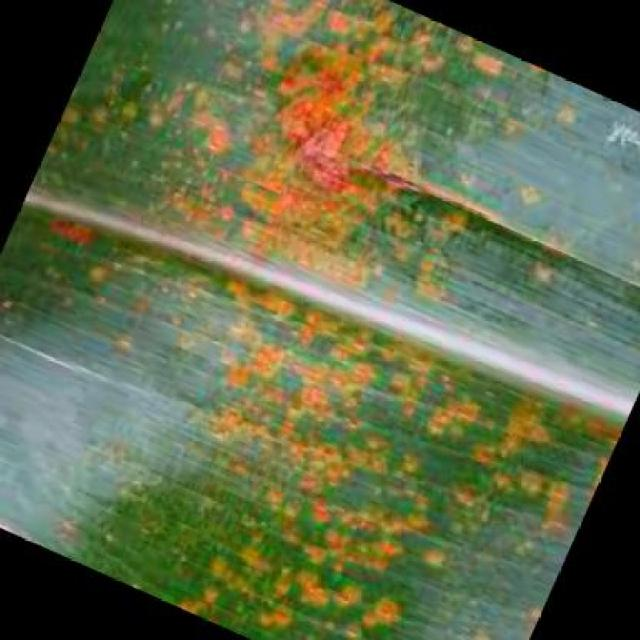Corn_Rust: (94, 59, 534, 568)
